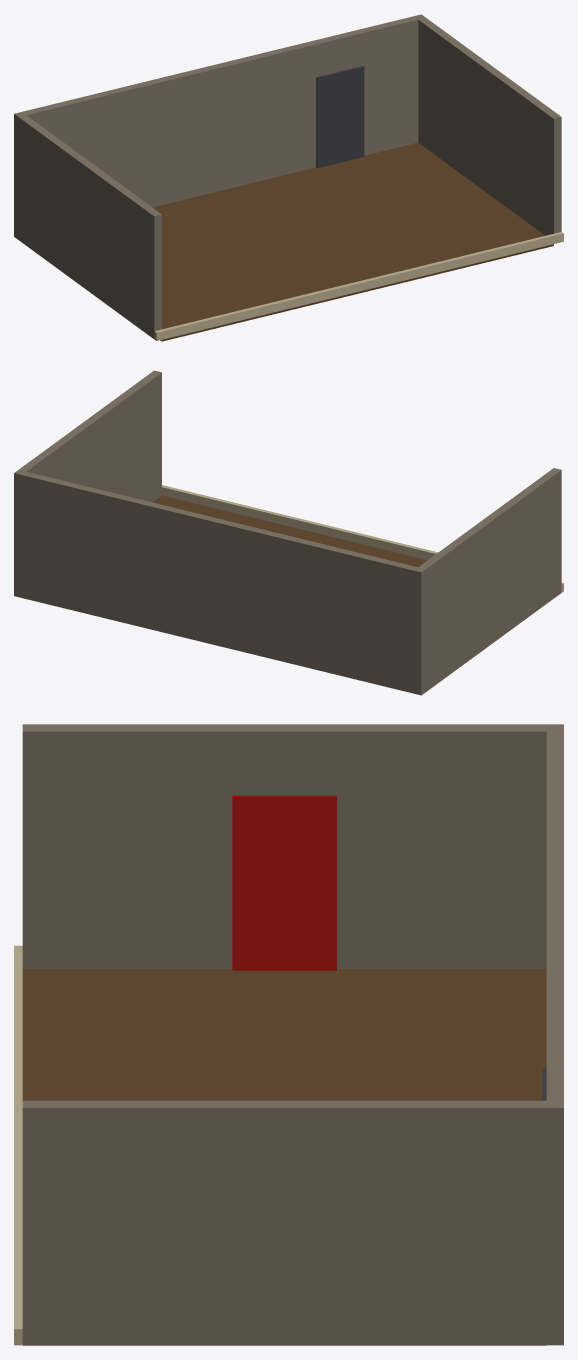
The model's file is rehearsal.obj.
The picture shows the model from 3 angles, top to bottom: view 1: azimuth 30°, elevation 25°; view 2: azimuth 150°, elevation 25°; view 3: azimuth 270°, elevation 25°; orthographic projection. The views are drawn at different scales.
Bounding box in the file's own units: 10.4 × 3.1 × 6.3.
